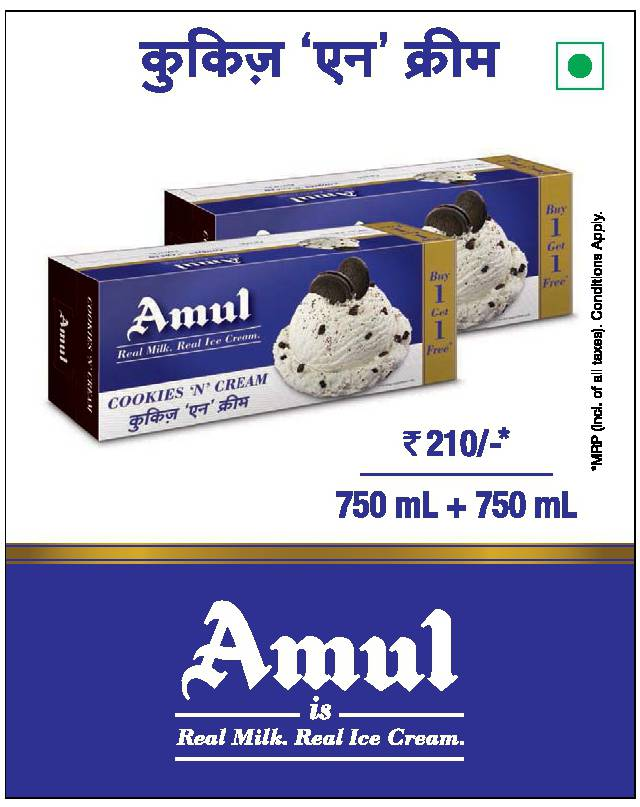Amul: (177, 592, 469, 706), (126, 283, 258, 343)
